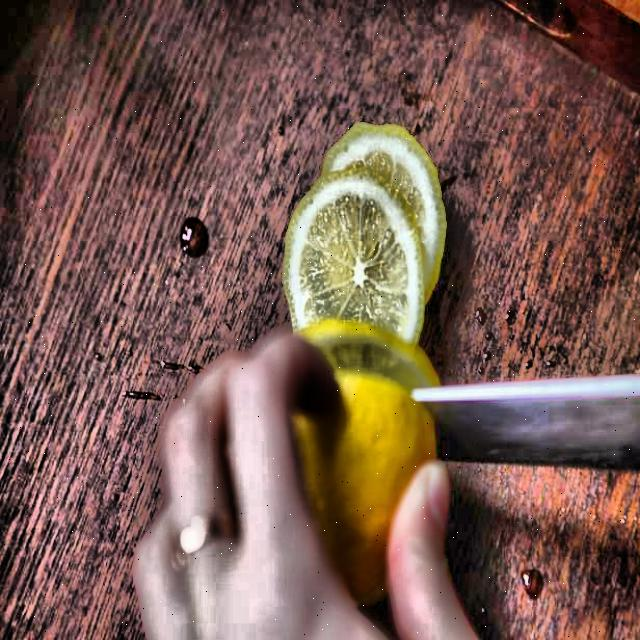knife: (392, 359, 640, 466)
